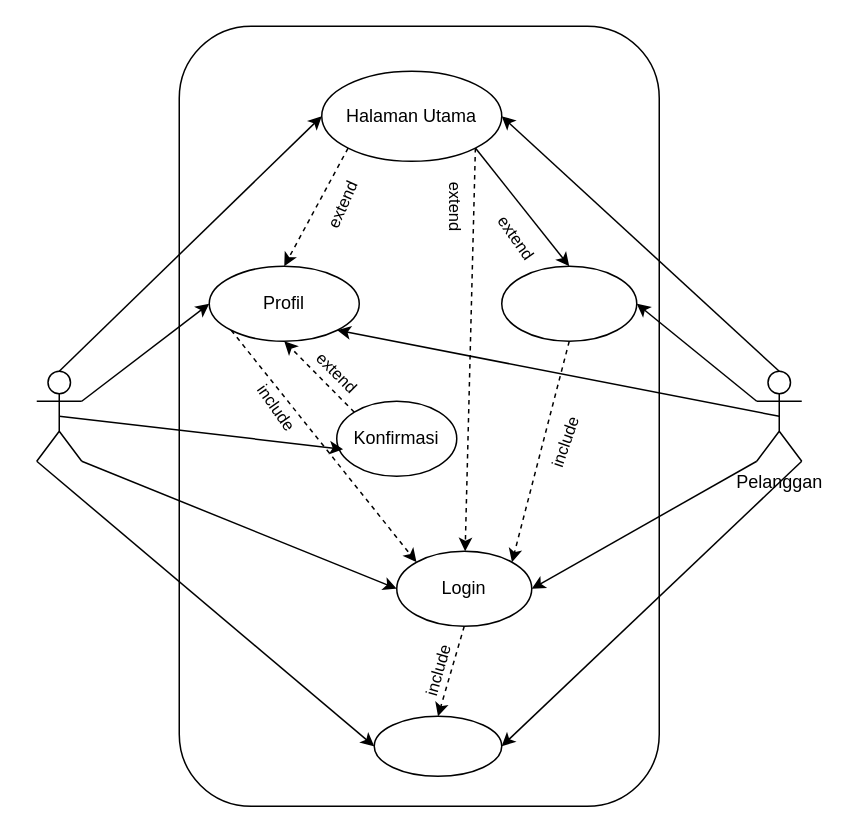
This 848x833 diagram has some shape labels left out. The shapes that lost their labels are listed below. From the top down, each one's box as (x1, y1, x2, y2) in pixels, then its label:
(500, 265, 637, 341): Pesan
(35, 370, 82, 461): Owner
(373, 715, 502, 776): Daftar
